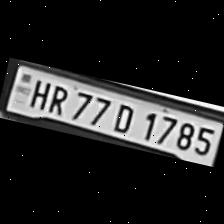1: (134, 106, 160, 142)
5: (189, 120, 217, 158)
7: (66, 86, 94, 122), (84, 92, 112, 128), (151, 110, 178, 147)
8: (171, 116, 197, 151)
D: (106, 98, 139, 135)
H: (25, 75, 52, 111)
R: (43, 80, 72, 116)
